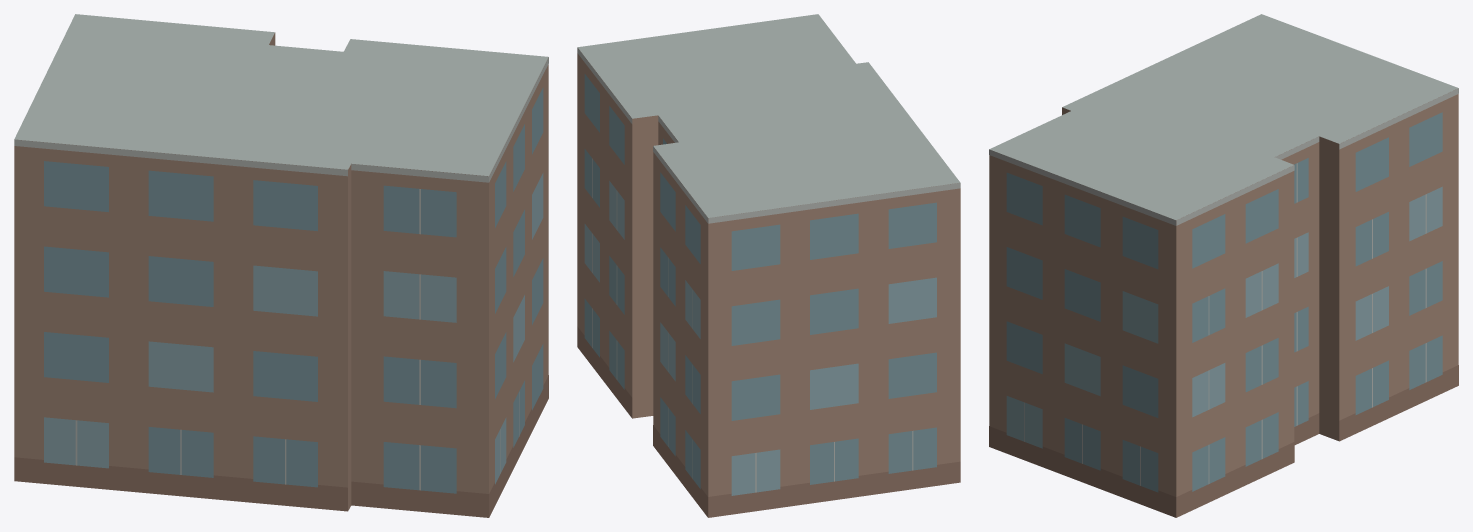
The model's file is survey-upis-32622811.glb.
The picture shows the model from 3 angles, left to right: view 1: azimuth 30°, elevation 25°; view 2: azimuth 150°, elevation 25°; view 3: azimuth 270°, elevation 25°; orthographic projection. The views are drawn at different scales.
Visible parts, largest first — view 1: survey-upis-32622811.tmp; view 2: survey-upis-32622811.tmp; view 3: survey-upis-32622811.tmp.
Part boxes in pixels (x1,y1,x2,y2): survey-upis-32622811.tmp: (14, 14, 548, 517); survey-upis-32622811.tmp: (577, 14, 960, 517); survey-upis-32622811.tmp: (989, 14, 1458, 517).
Size of the model in its own units: 19.04 by 12.8 by 18.32.
